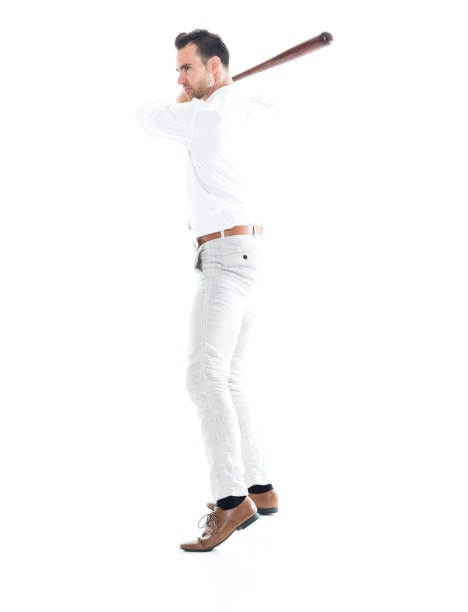bita: (230, 23, 338, 83)
